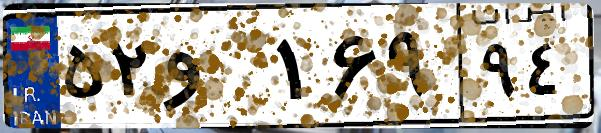1: (270, 28, 330, 110)
2: (110, 28, 158, 98)
4: (525, 38, 570, 115)
5: (57, 26, 110, 100)
6: (330, 28, 385, 110)
9: (385, 28, 445, 110), (475, 38, 525, 113)
و: (158, 20, 270, 120)
